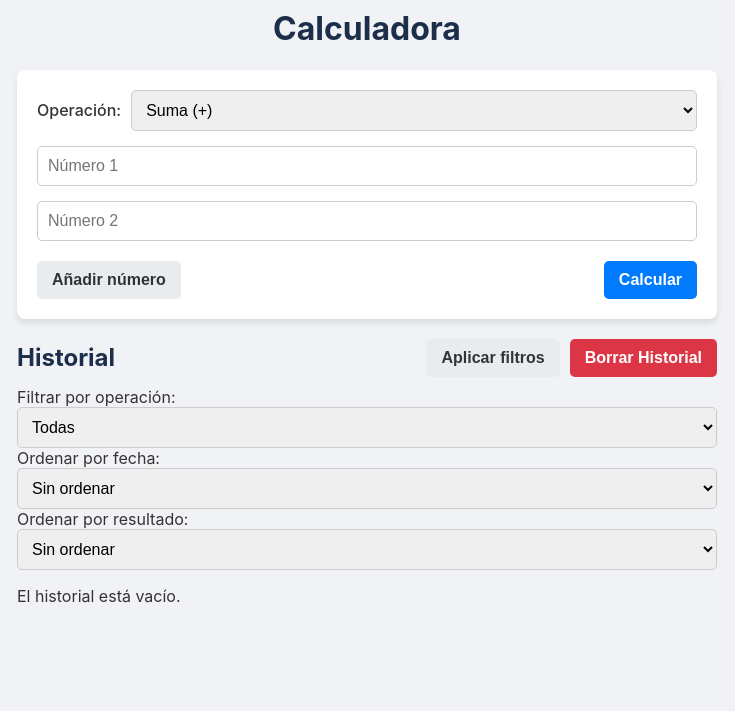
realiza una suma y muestra el resultado correcto
Expected: the button "Calcular" is shown, [604,261,697,299]
Type "10" into the number field with placeholder "Número 1" at x=367, y=166, box [37,146,697,186]
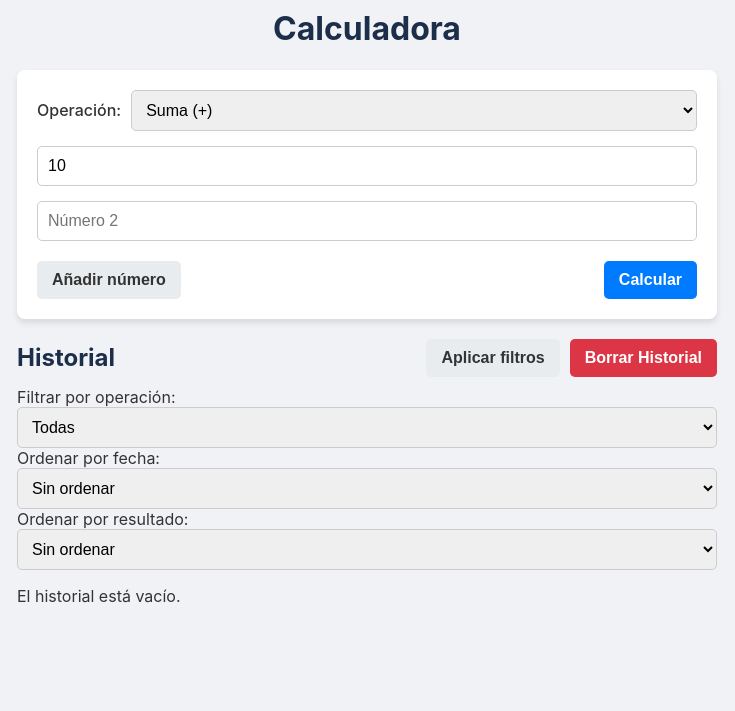
Type "20" into the number field with placeholder "Número 2" at x=367, y=221, box [37,201,697,241]
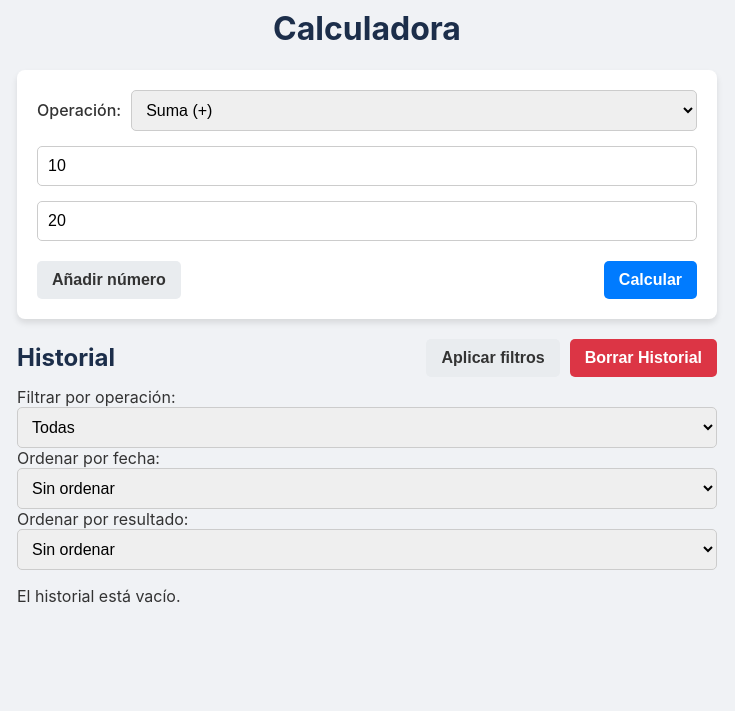
Click the button "Calcular" at x=650, y=280, box [604,261,697,299]
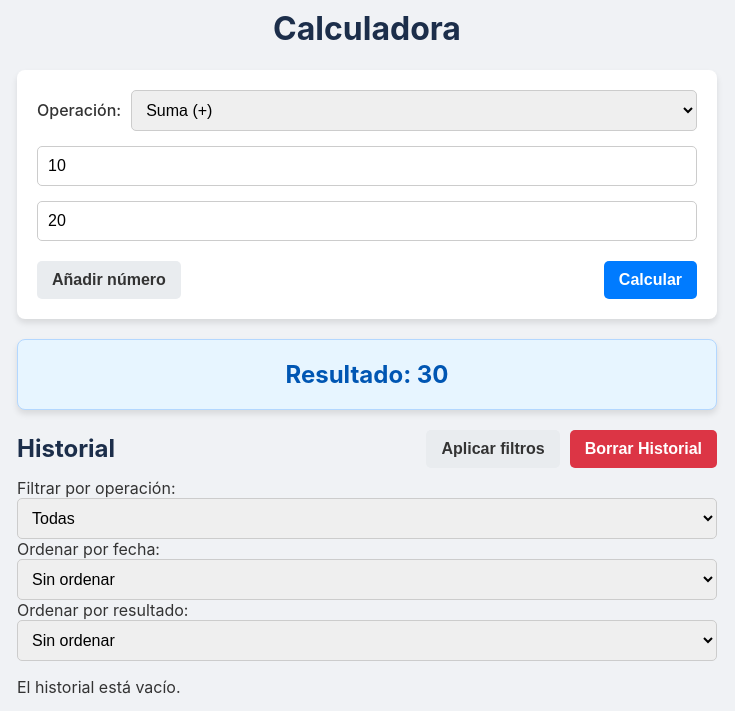
Now the heading "Resultado: 30" is shown, box [286,360,449,389]
